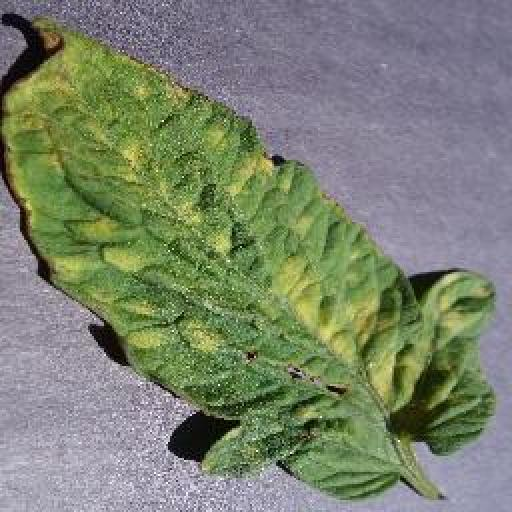disease_tomato: (0, 13, 497, 498)
